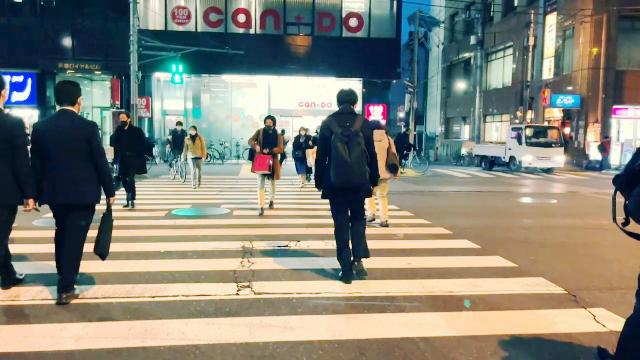berjalan: (29, 76, 110, 304), (312, 87, 371, 287), (106, 112, 152, 214), (245, 112, 289, 218), (183, 124, 209, 188)
